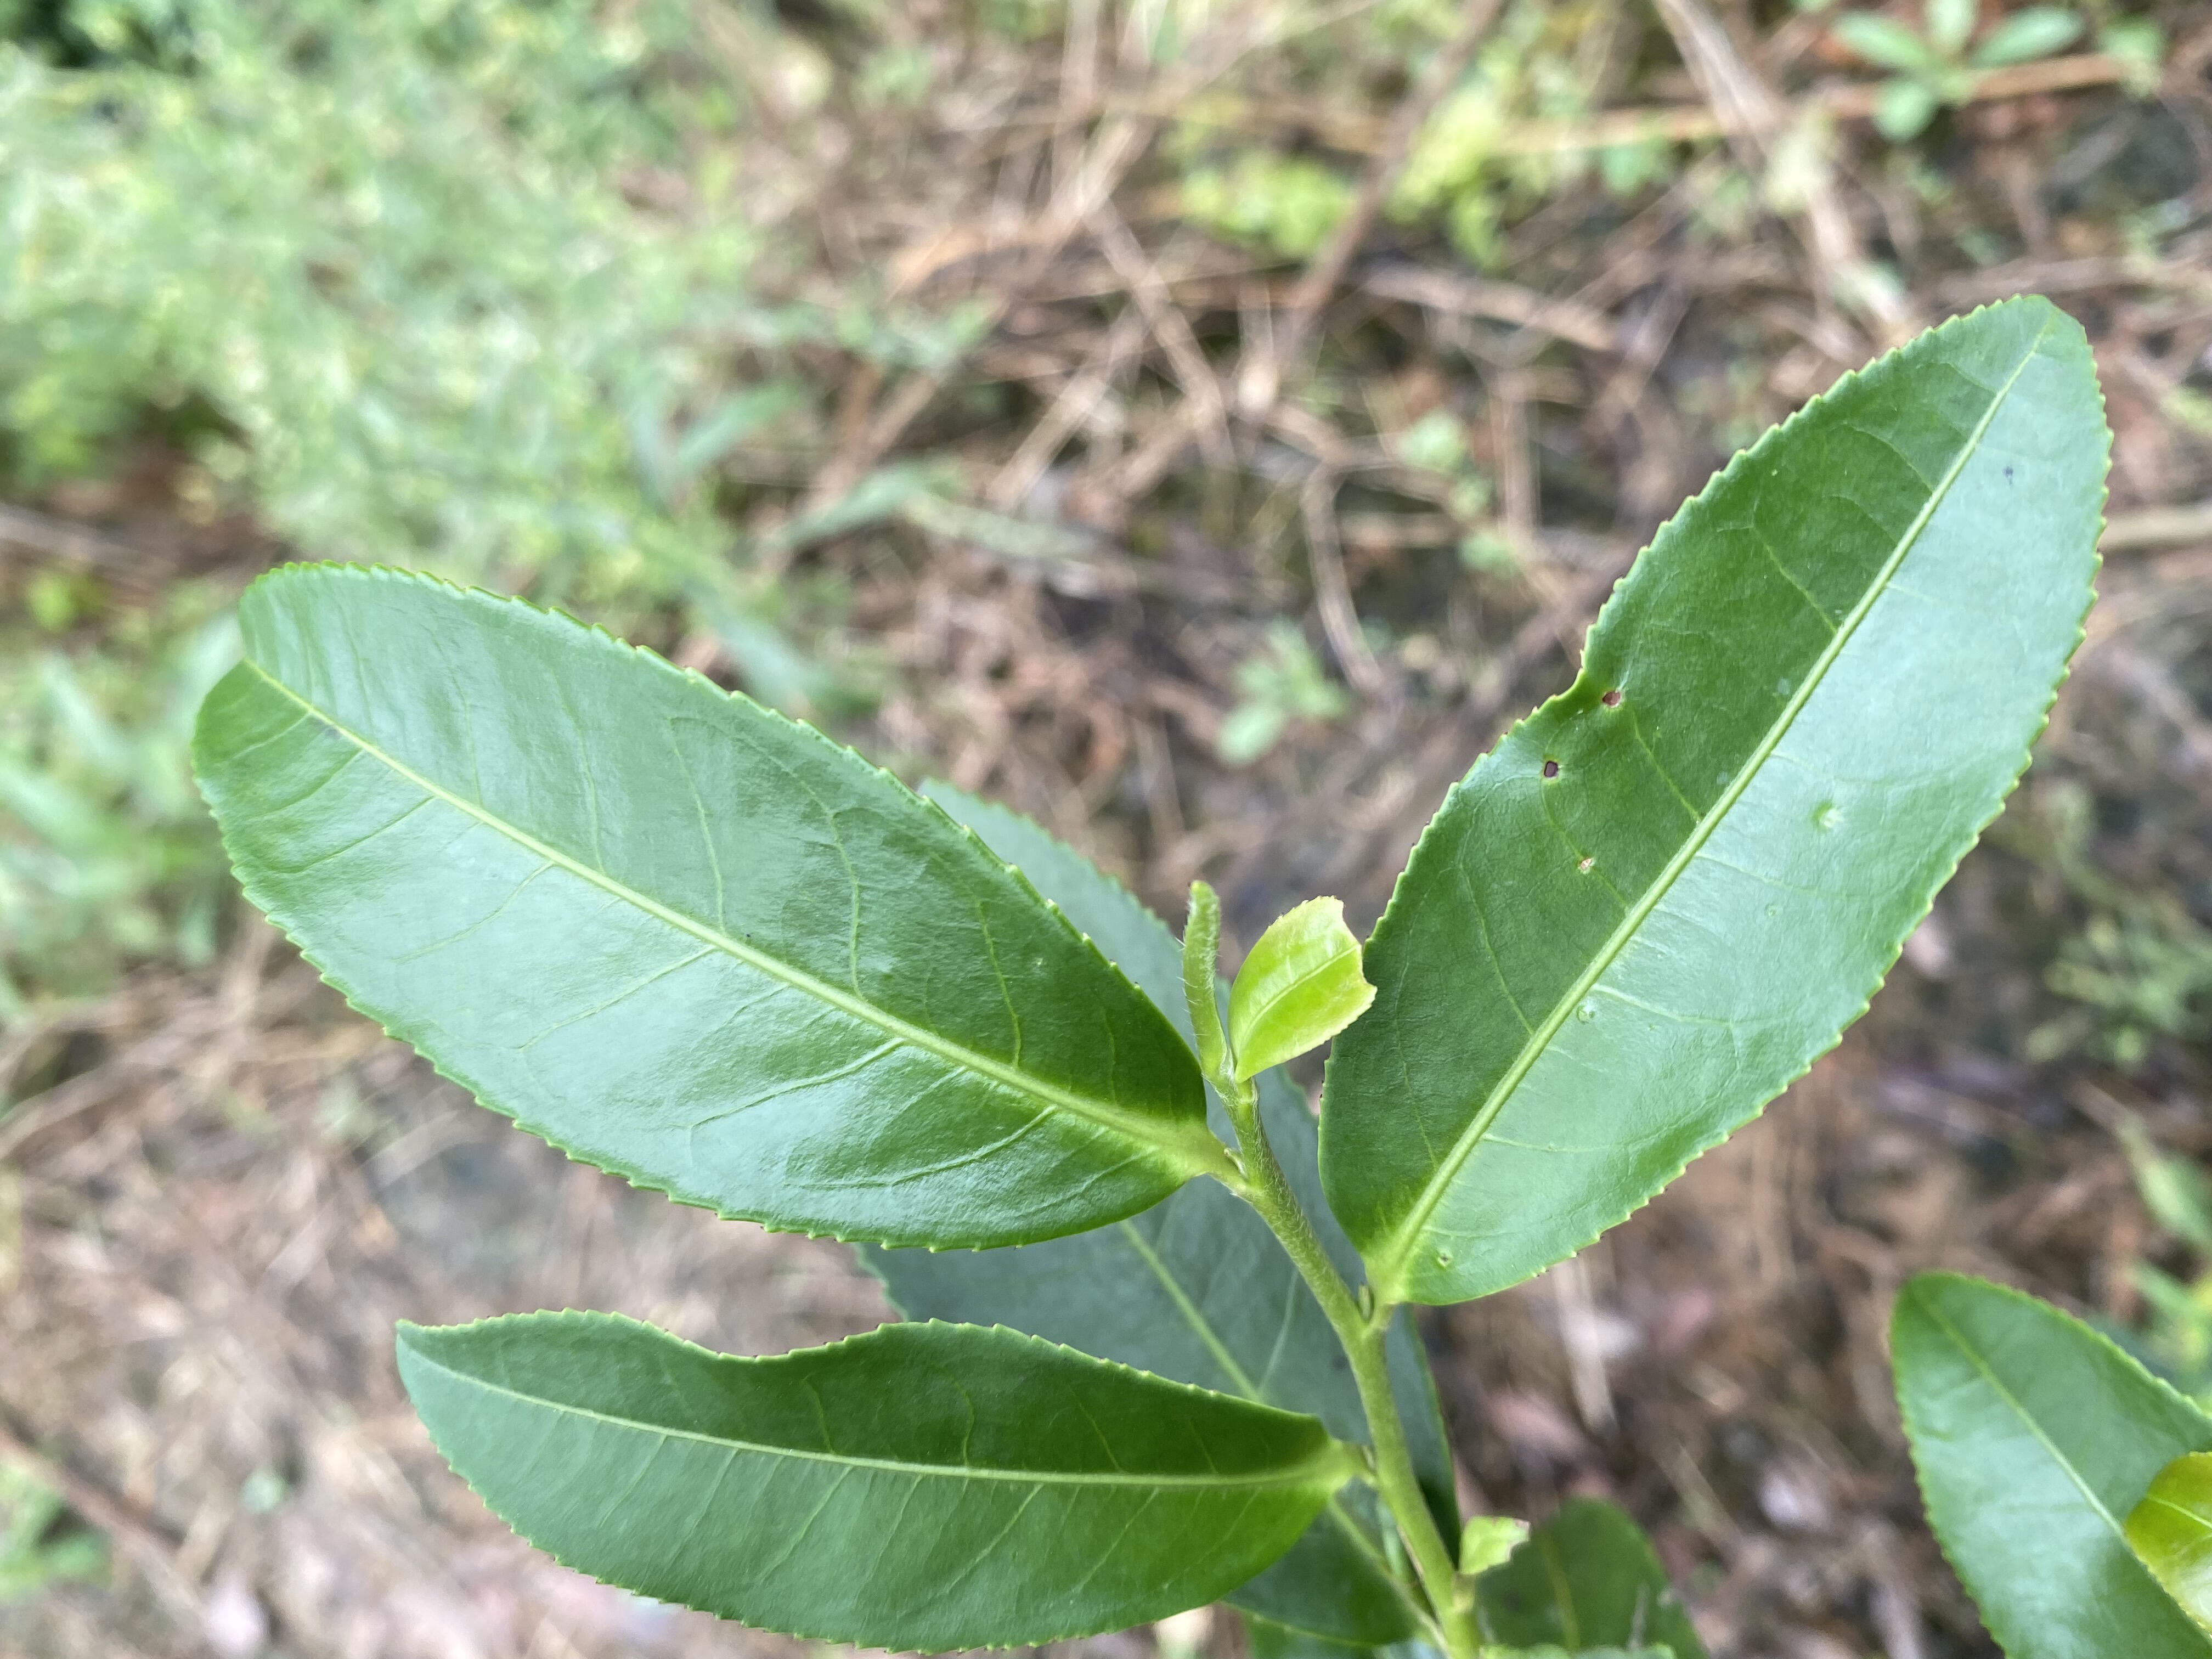chihuo_high: (1231, 892, 1376, 1084)
healthy: (188, 559, 1205, 1256), (390, 1309, 1343, 1657), (1888, 1270, 2209, 1654)
tanju_low: (1318, 291, 2116, 1309), (2125, 1450, 2209, 1635)
